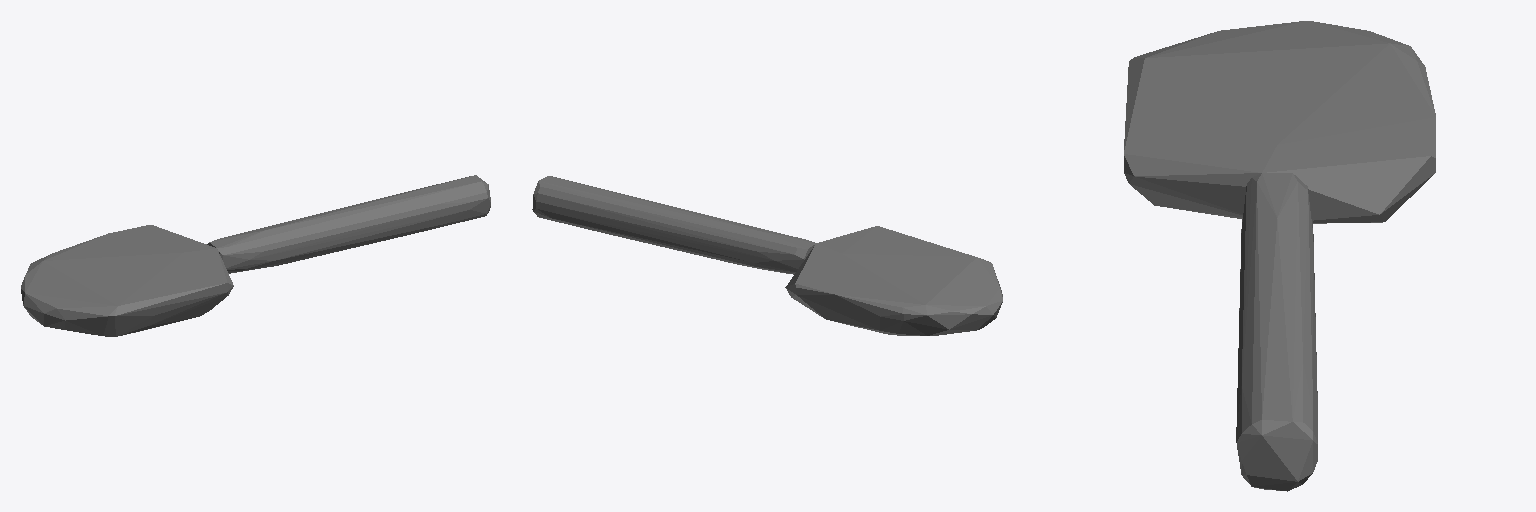
robot.urdf — toy_024:
<?xml version="1.0" ?>
<robot name="toy_024">
  <material name="color">
    <color rgba=".5 .5 .5 1"/>
  </material>

  <link name="base_link">
    <contact>
      <lateral_friction value="1.0"/>
      <rolling_friction value="0.001"/>
      <spinning_friction value="0.001"/>
      <inertia_scaling value="1.0"/>
    </contact>
    <inertial>
      <origin rpy="0 0 0" xyz="-0.025456 -0.000205211 0.147494"/>
       <mass value="0.1"/>
       <inertia ixx="1" ixy="0" ixz="0" iyy="1" iyz="0" izz="1"/>
    </inertial>

    <visual>
      <origin rpy="0 0 0" xyz="0 0 0"/>
      <geometry>
        <mesh filename="toy_024_vhacd_0_of_2.obj" scale="1 1 1"/>
      </geometry>
      <material name="color"/>
    </visual>
    <visual>
      <origin rpy="0 0 0" xyz="0 0 0"/>
      <geometry>
        <mesh filename="toy_024_vhacd_1_of_2.obj" scale="1 1 1"/>
      </geometry>
      <material name="color"/>
    </visual>

    <collision>
      <origin rpy="0 0 0" xyz="0 0 0"/>
      <geometry>
        <mesh filename="toy_024_vhacd_0_of_2.obj" scale="1 1 1"/>
      </geometry>
    </collision>
    <collision>
      <origin rpy="0 0 0" xyz="0 0 0"/>
      <geometry>
        <mesh filename="toy_024_vhacd_1_of_2.obj" scale="1 1 1"/>
      </geometry>
    </collision>

  </link>
</robot>

--- Facts derived from the render (not from the file) ---
Views: 3 orthographic renders of the robot side by side, from view 1: azimuth 30°, elevation 25°; view 2: azimuth 150°, elevation 25°; view 3: azimuth 270°, elevation 25°.
Robot: toy_024 — 1 links, 0 joints (none); root link base_link; default pose: all joints at 0.
Links seen in each view (by area): view 1: base_link; view 2: base_link; view 3: base_link.
Link boxes in pixels (x1,y1,x2,y2): base_link: [21, 175, 490, 336]; base_link: [532, 176, 1002, 335]; base_link: [1124, 21, 1435, 491].
Size in the robot's own frame: 0.2124 by 0.0648 by 0.0244 metres.
Meshes: 2 distinct files referenced, 2 mesh visuals loaded (2 OBJ).